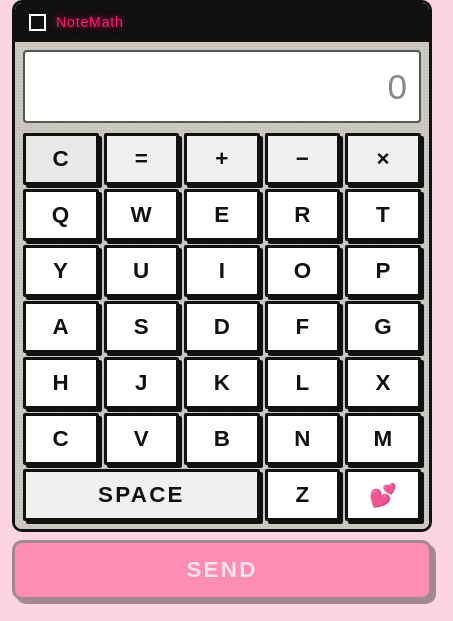
Test: appending characters › clicking a letter appends it to the display
The width and height of the screenshot is (453, 621).
Click the button "H": (61, 383) [23,357,99,409]
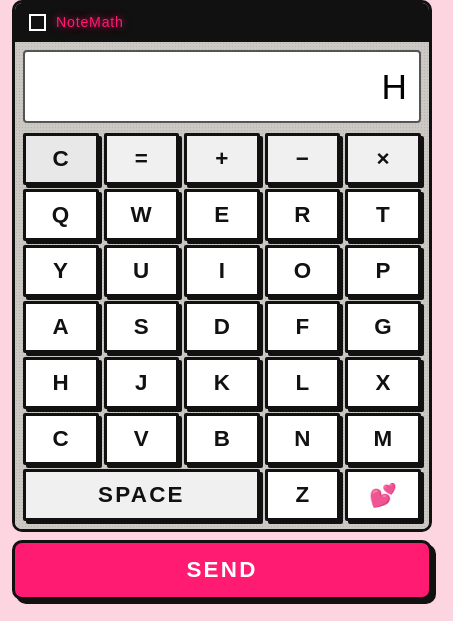
Click the button "I": (222, 271) [184,245,260,297]
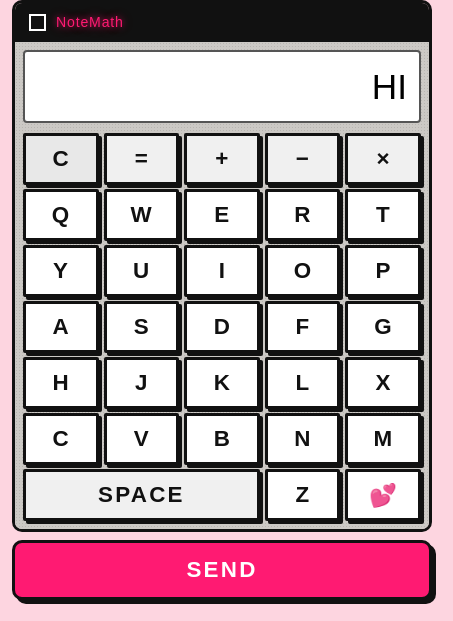
Result: the text "HI" is shown at [372,62,407,111]
